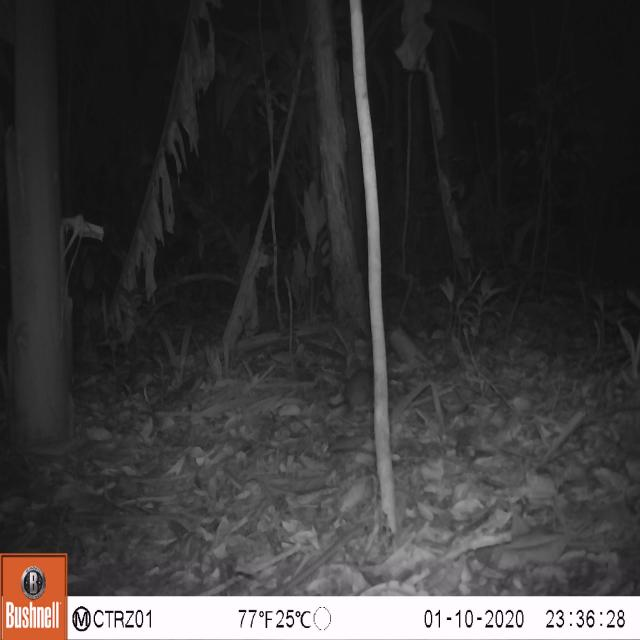Rodent: (320, 354, 396, 432)
